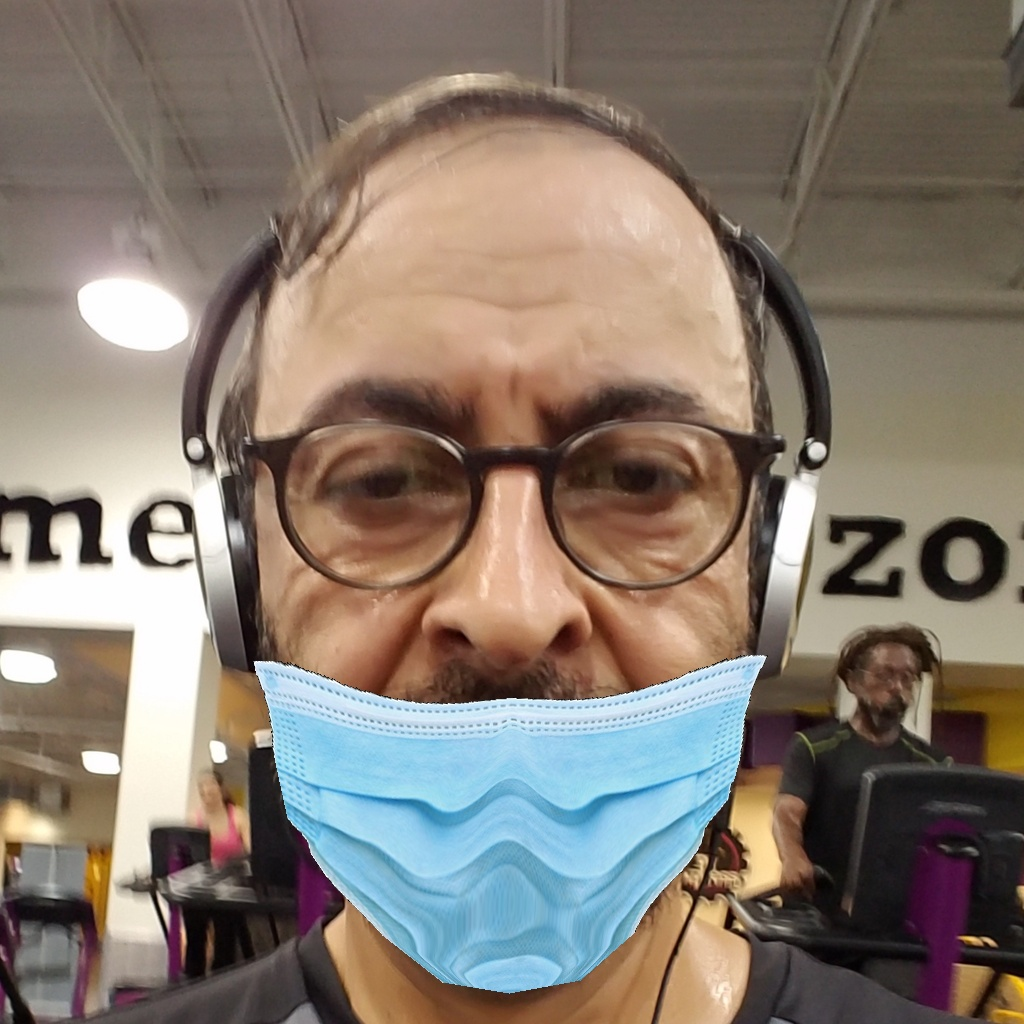mascarilla_mal_puesta: (236, 350, 816, 1015)
